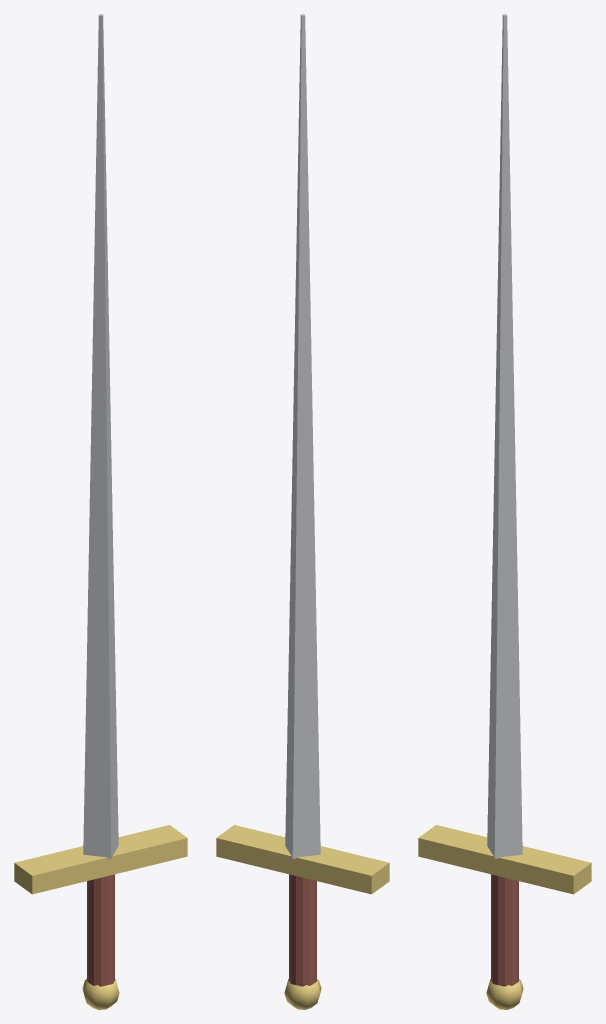
The model's file is sword.glb.
The picture shows the model from 3 angles, left to right: view 1: azimuth 30°, elevation 25°; view 2: azimuth 150°, elevation 25°; view 3: azimuth 330°, elevation 25°; orthographic projection.
Visible parts, largest first — view 1: sword; view 2: sword; view 3: sword.
Part boxes in pixels (box(x1,y1,x2,y2)): sword: box(14, 14, 187, 1009); sword: box(216, 14, 389, 1009); sword: box(418, 14, 591, 1009).
Bounding box in the file's own units: 0.14 × 0.855 × 0.032.
